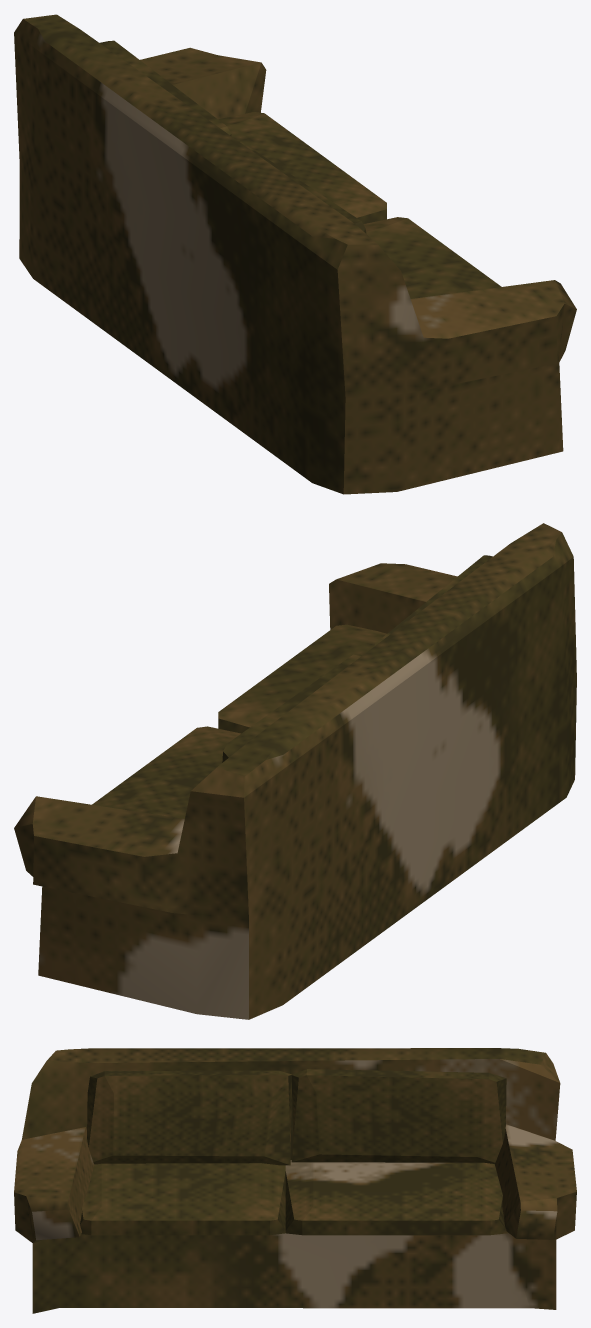
File: Couch.fbx
3 views of the same model, one above another, from view 1: azimuth 30°, elevation 25°; view 2: azimuth 150°, elevation 25°; view 3: azimuth 270°, elevation 25° (orthographic). The views are drawn at different scales.
Visible parts, largest first — view 1: Cube.001, Cube.004, Cube.002, Cube.005, Cube.003; view 2: Cube.001, Cube.004, Cube.002, Cube.005, Cube.003; view 3: Cube.001, Cube.005, Cube.003, Cube.004, Cube.002.
Part boxes in pixels (x1,y1,x2,y2): Cube.001: (14, 14, 576, 494); Cube.004: (218, 112, 386, 224); Cube.002: (363, 217, 501, 298); Cube.005: (100, 40, 231, 135); Cube.003: (239, 141, 366, 233); Cube.001: (14, 523, 576, 1019); Cube.004: (92, 726, 240, 818); Cube.002: (218, 624, 386, 733); Cube.005: (222, 654, 362, 762); Cube.003: (374, 555, 492, 646); Cube.001: (14, 1048, 576, 1313); Cube.005: (291, 1069, 506, 1163); Cube.003: (87, 1070, 292, 1165); Cube.004: (285, 1160, 508, 1235); Cube.002: (80, 1163, 285, 1235).
Bounding box in the file's own units: 519 × 505 × 1363.
Materials: 5 (5 with a texture image).
